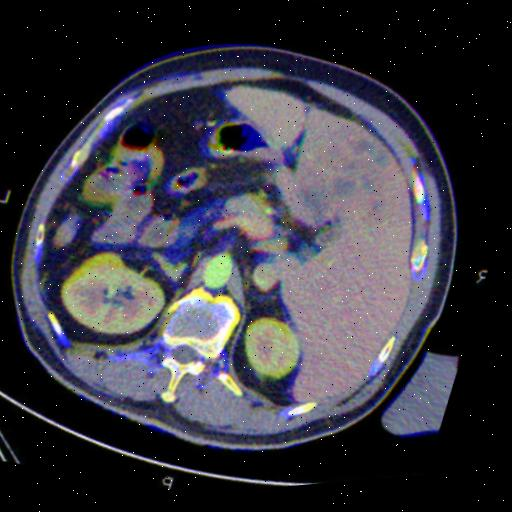Abscess: (305, 141, 394, 224)
